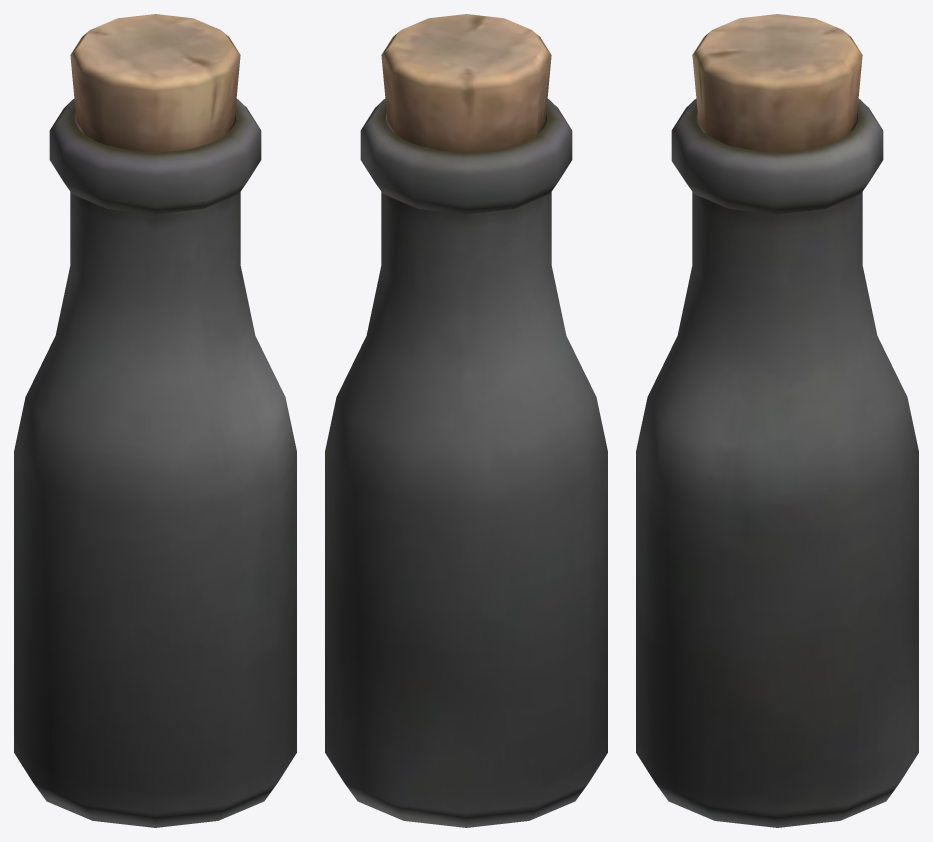
The picture shows the model from 3 angles, left to right: view 1: azimuth 30°, elevation 25°; view 2: azimuth 150°, elevation 25°; view 3: azimuth 270°, elevation 25°; orthographic projection.
Visible parts, largest first — view 1: SM_Weak_Black_Potion_LOD0; view 2: SM_Weak_Black_Potion_LOD0; view 3: SM_Weak_Black_Potion_LOD0.
Part boxes in pixels (x1,y1,x2,y2): SM_Weak_Black_Potion_LOD0: [14, 14, 296, 827]; SM_Weak_Black_Potion_LOD0: [325, 14, 607, 827]; SM_Weak_Black_Potion_LOD0: [636, 14, 918, 827].
Size of the model in its own units: 0.0834 by 0.2372 by 0.0834.
Materials: 1 (1 with a texture image).
